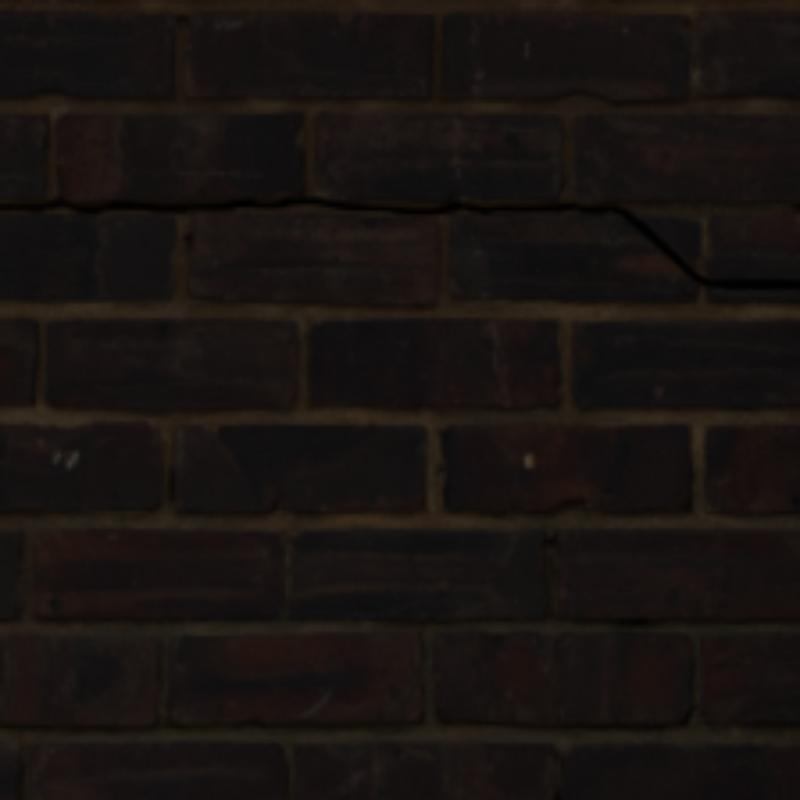crack: (46, 196, 796, 286)
